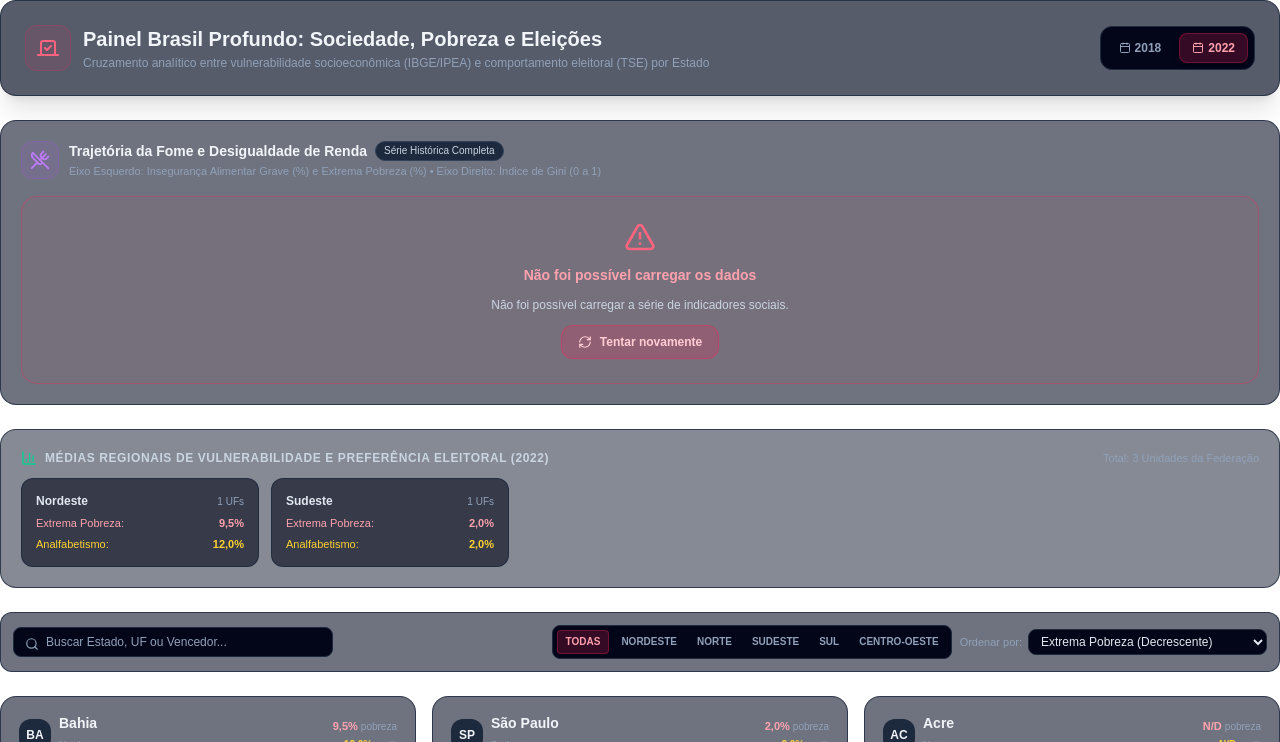
Test: DeepBrazilPanel › erro na série social não derruba o painel e permite retry
Expected: the heading "Bahia" is shown, [59,715,100,732]
Expected: the text "Não foi possível carregar a série de indicadores sociais." is shown, [491,298,789,312]
What coordinates should you click on to do the following:
click the button "Tentar novamente"
I would click on:
 (640, 342)
Its box is [561,325,719,359].
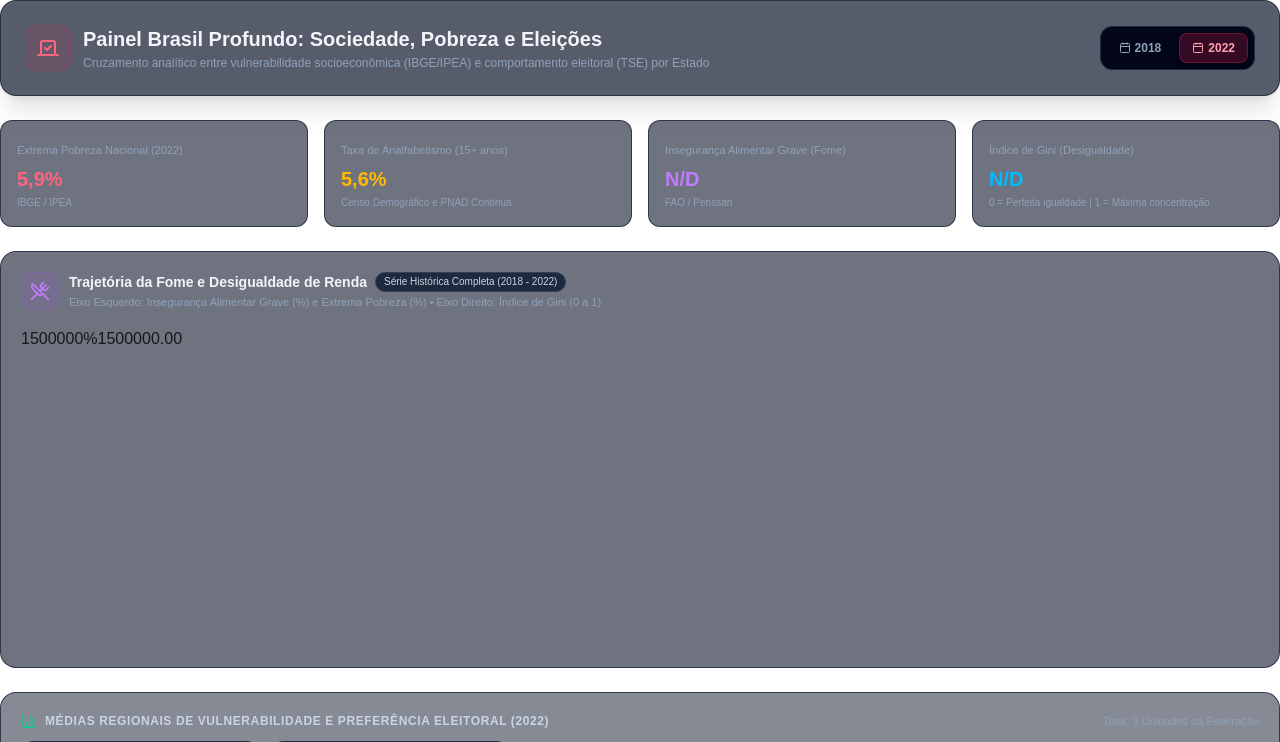
Expected: the message is gone
